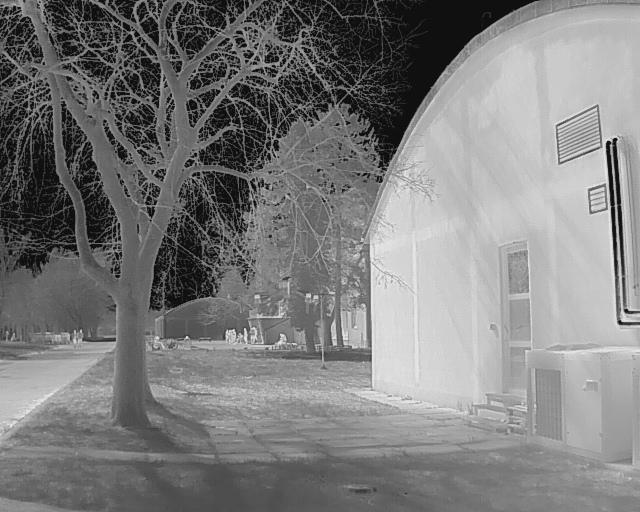drone: (240, 259, 335, 328)
